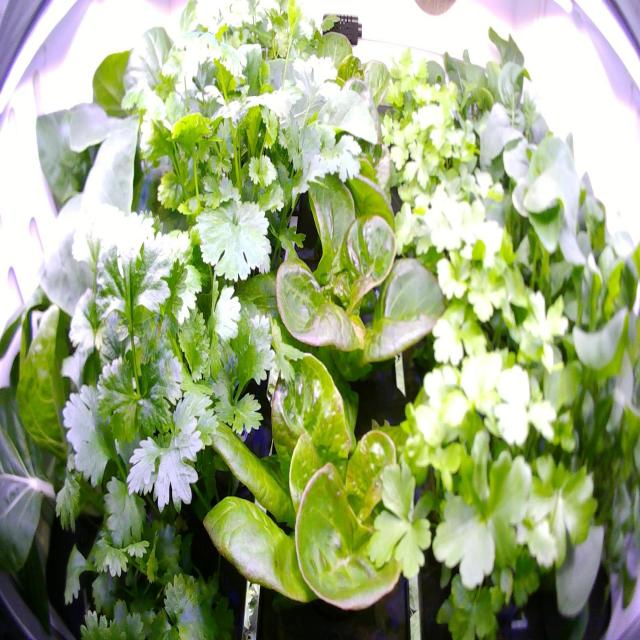Ready: (178, 321, 457, 628), (232, 151, 449, 408), (265, 8, 402, 162)
